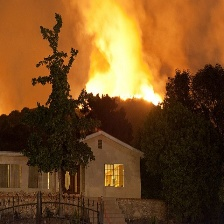fire: (87, 68, 164, 105)
smoke: (55, 1, 224, 58)
